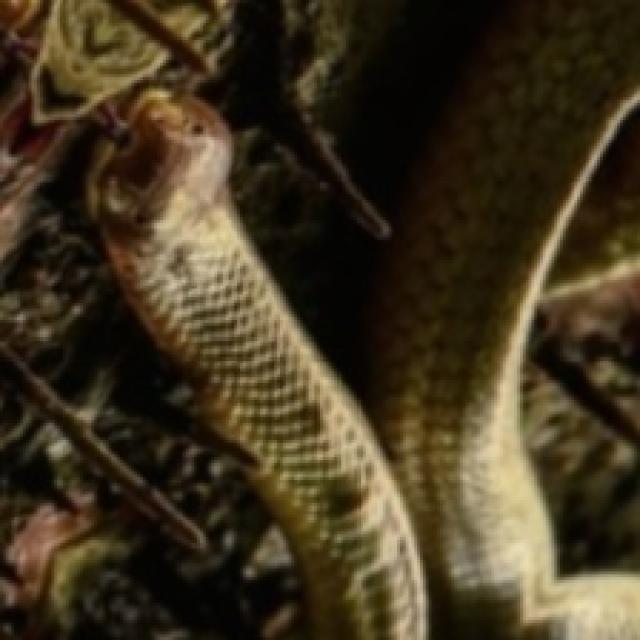king cobra: (89, 91, 423, 637), (371, 0, 640, 639)
